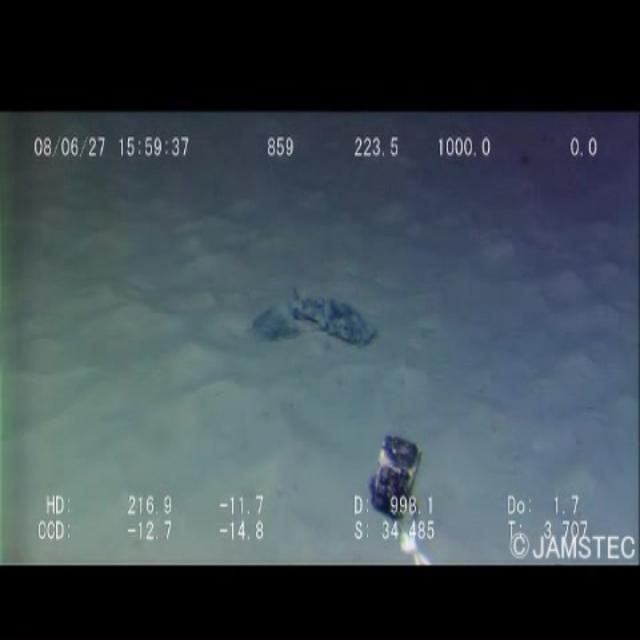Accessories: (232, 278, 391, 379)
